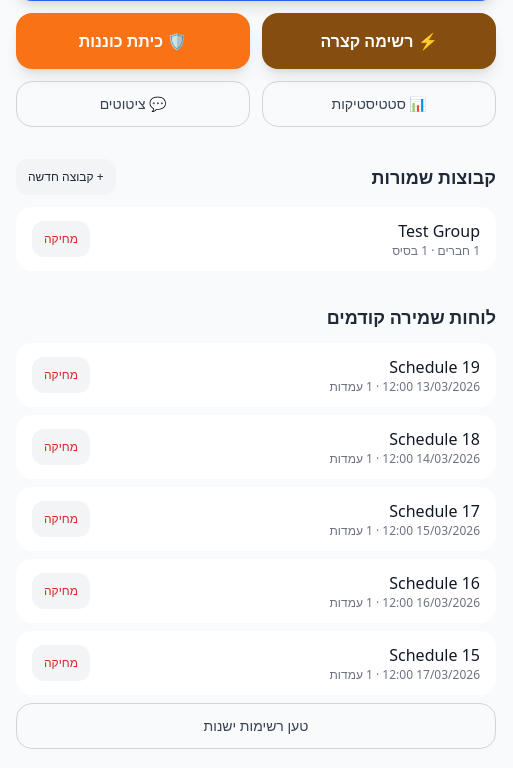
Scenario: HomeScreen Lists Infinite Scroll › hides load more button after clicking it
This screenshot has width=513, height=768.
(page scrolled)
Click the button "טען רשימות ישנות".
click(256, 726)  # box [16,703,496,749]
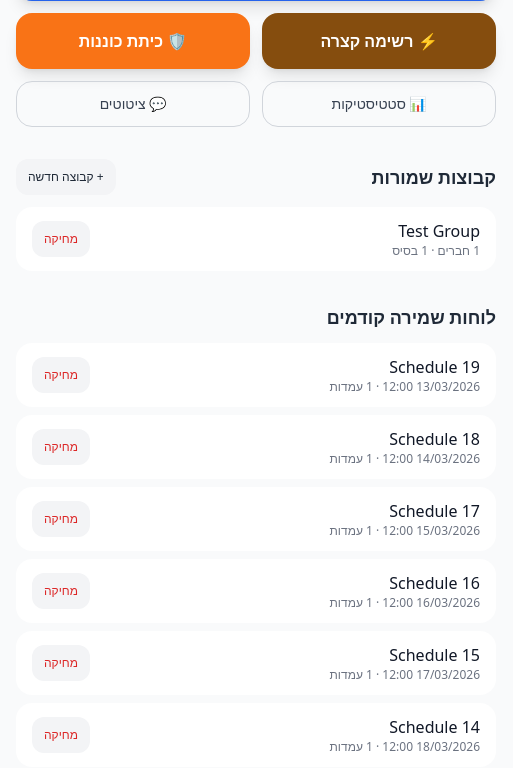
Now the button "טען רשימות ישנות" is gone
